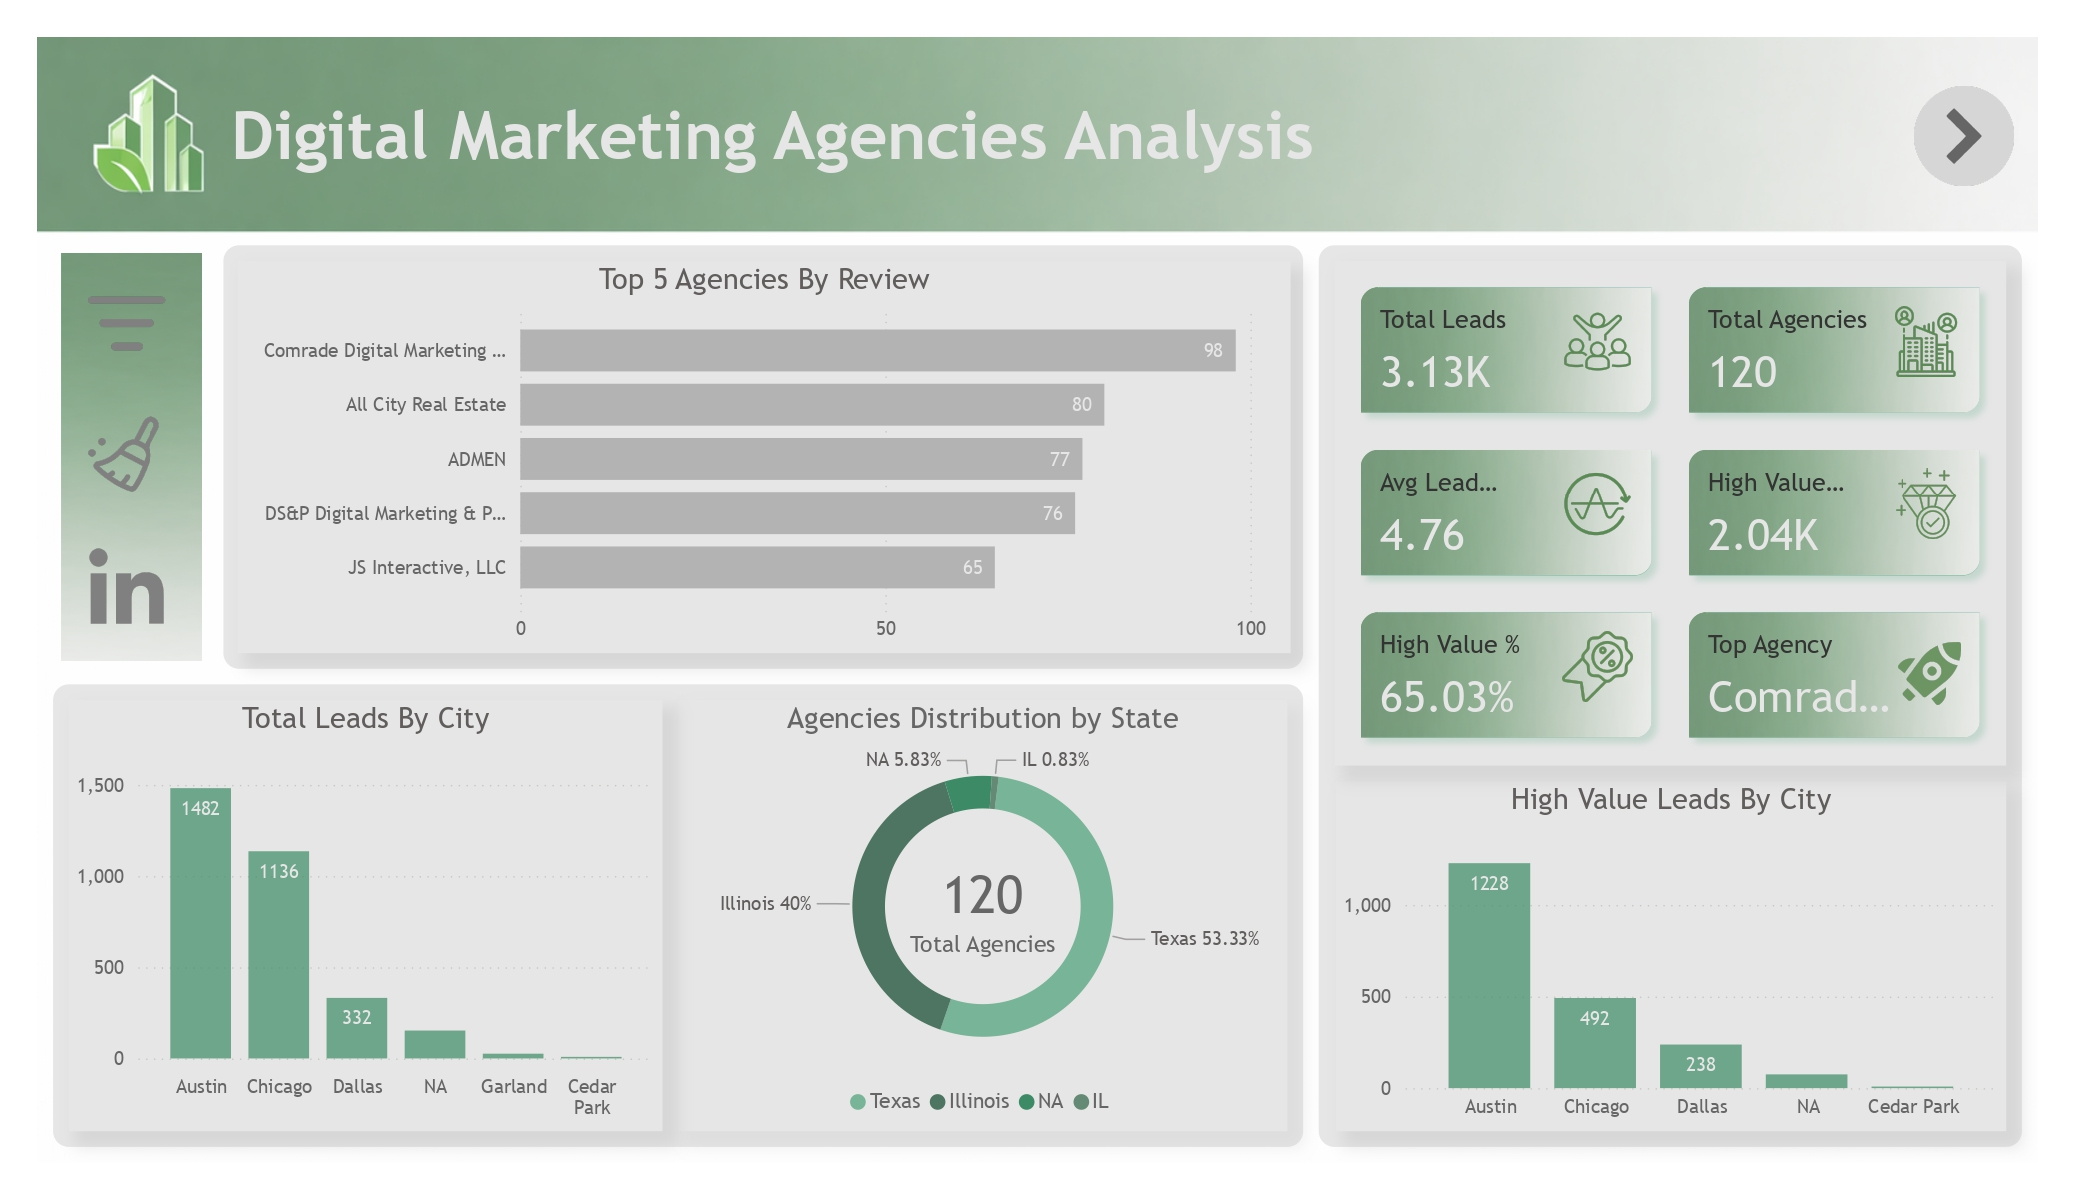

Layout of this report page (visuals, bound fields, positions):
{"tool":"powerbi","page":{"name":"EXECUTIVE DASHBOARD","canvas":[1280,720],"ordinal":0},"visuals":[{"type":"textbox","box":[118.6,32.9,712.9,60],"z":0},{"type":"shape","box":[118.8,132.5,691.2,271.2],"z":0,"group":"g1"},{"type":"barChart","title":"Top 5 Agencies By Review","fields":{"Category":["Data lead.Agencies"],"Y":["Data lead.Total Reviews"]},"box":[127.4,142.5,674,251.3],"z":1000,"group":"g1"},{"type":"shape","box":[10,414.3,800,295.7],"z":1000},{"type":"shape","box":[820,132.9,450,577.1],"z":2000},{"type":"cardVisual","fields":{"Data":["Data lead.Total Leads","data.Total Agencies","Data lead.Avg Lead Quality","Data lead.High Value Leads","Data lead.High Value %","Data lead.Top Agency"]},"box":[830,142.9,430,322.9],"z":3000},{"type":"donutChart","title":"Agencies Distribution by State","fields":{"Category":["Data lead.State"],"Y":["CountNonNull(Data lead.Agencies)"]},"box":[410,424.3,390,275.7],"z":4000},{"type":"card","fields":{"Values":["Data lead.Total Agencies"]},"box":[541.4,492.9,127.1,125.7],"z":5000},{"type":"columnChart","title":"Total Leads By City","fields":{"Category":["Data lead.City"],"Y":["Data lead.Total Leads"]},"box":[20,424.3,380,275.7],"z":6000},{"type":"columnChart","title":"High Value Leads By City","fields":{"Category":["Data lead.City"],"Y":["Data lead.High Value Leads"]},"box":[831.4,475.7,428.6,224.3],"z":7000},{"type":"image","box":[1195.7,25.7,74.3,74.3],"z":8000},{"type":"group","id":"g1","title":"Group 1","box":[118.8,132.5,691.2,271.2],"z":9000},{"type":"image","box":[10,132.5,100,271.2],"z":10000},{"type":"image","box":[22,148.5,70,70],"z":12000},{"type":"image","box":[22.5,232.5,70,70],"z":13000},{"type":"image","box":[22.5,316.5,70,70],"z":14000}]}

Visuals, with their boxes on the page's 1280x720 design canvas (x1, y1, x2, y2). These are canvas units, not pixel positions in the 2075x1200 screenshot, which may show the page scaled, cropped or inside an application window:
textbox: [x1=119, y1=33, x2=832, y2=93]
shape: [x1=119, y1=132, x2=810, y2=404]
"Top 5 Agencies By Review" barChart: [x1=127, y1=142, x2=801, y2=394]
shape: [x1=10, y1=414, x2=810, y2=710]
shape: [x1=820, y1=133, x2=1270, y2=710]
cardVisual - Data lead.Total Leads x data.Total Agencies: [x1=830, y1=143, x2=1260, y2=466]
"Agencies Distribution by State" donutChart: [x1=410, y1=424, x2=800, y2=700]
card - Data lead.Total Agencies: [x1=541, y1=493, x2=668, y2=619]
"Total Leads By City" columnChart: [x1=20, y1=424, x2=400, y2=700]
"High Value Leads By City" columnChart: [x1=831, y1=476, x2=1260, y2=700]
image: [x1=1196, y1=26, x2=1270, y2=100]
"Group 1" group: [x1=119, y1=132, x2=810, y2=404]
image: [x1=10, y1=132, x2=110, y2=404]
image: [x1=22, y1=148, x2=92, y2=218]
image: [x1=22, y1=232, x2=92, y2=302]
image: [x1=22, y1=316, x2=92, y2=386]
